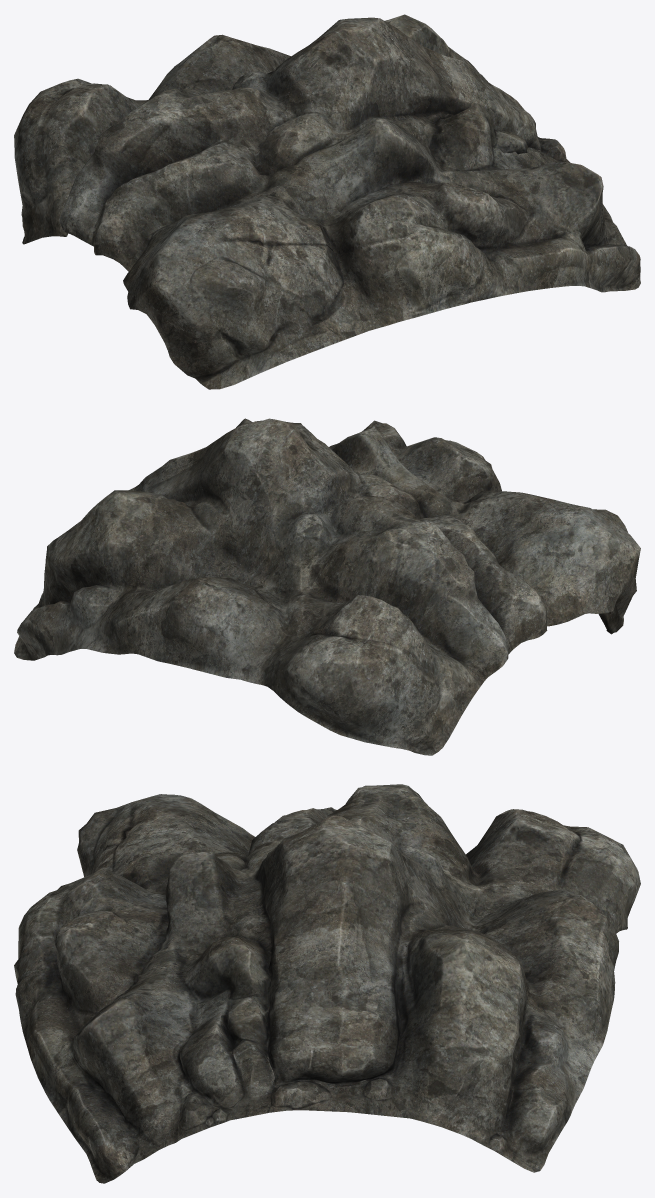
Rendered from cave_ravine_wall_01_domed.dae.
3 views of the same model, one above another, from view 1: azimuth 30°, elevation 25°; view 2: azimuth 150°, elevation 25°; view 3: azimuth 270°, elevation 25° (orthographic). The views are drawn at different scales.
Parts seen in each view (by area): view 1: wall_1_domed; view 2: wall_1_domed; view 3: wall_1_domed.
Boxes of the visible parts, x1,y1,x2,y2 form: wall_1_domed: (14,14,640,389); wall_1_domed: (14,418,640,755); wall_1_domed: (14,784,640,1183).
Size of what is drawn, in the model's own units: 4 by 1.83 by 3.99.
